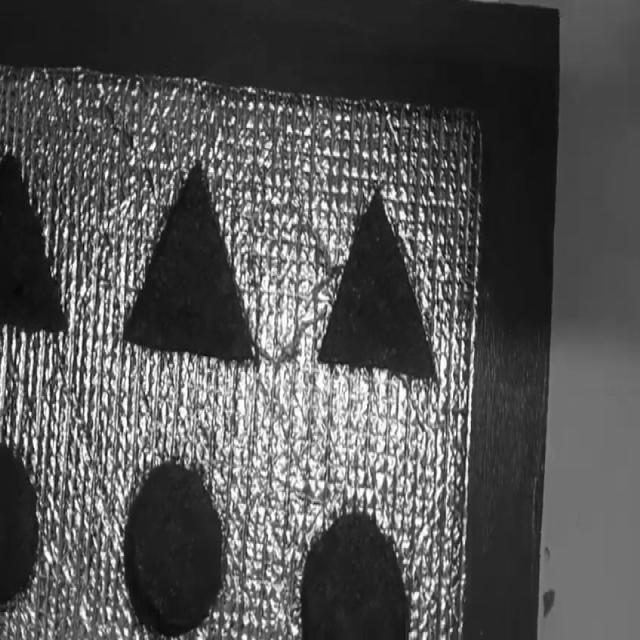mtcircle: (120, 458, 227, 636), (296, 505, 412, 640), (1, 440, 41, 612)
mttriangle: (120, 160, 260, 369), (310, 184, 439, 388), (0, 148, 68, 339)
wb: (4, 52, 479, 640)
